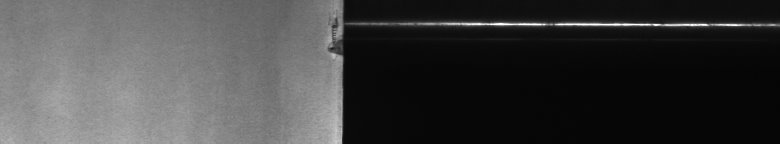hb: (324, 12, 332, 60)
